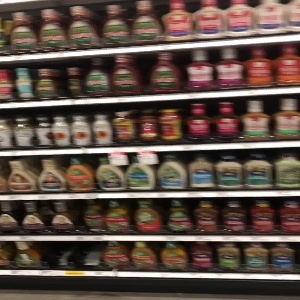void: (44, 240, 103, 274)
